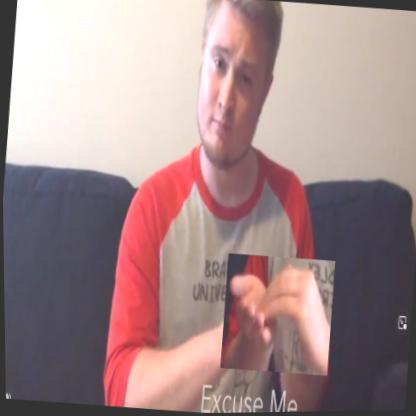ExcuseMe: (218, 253, 335, 378)
